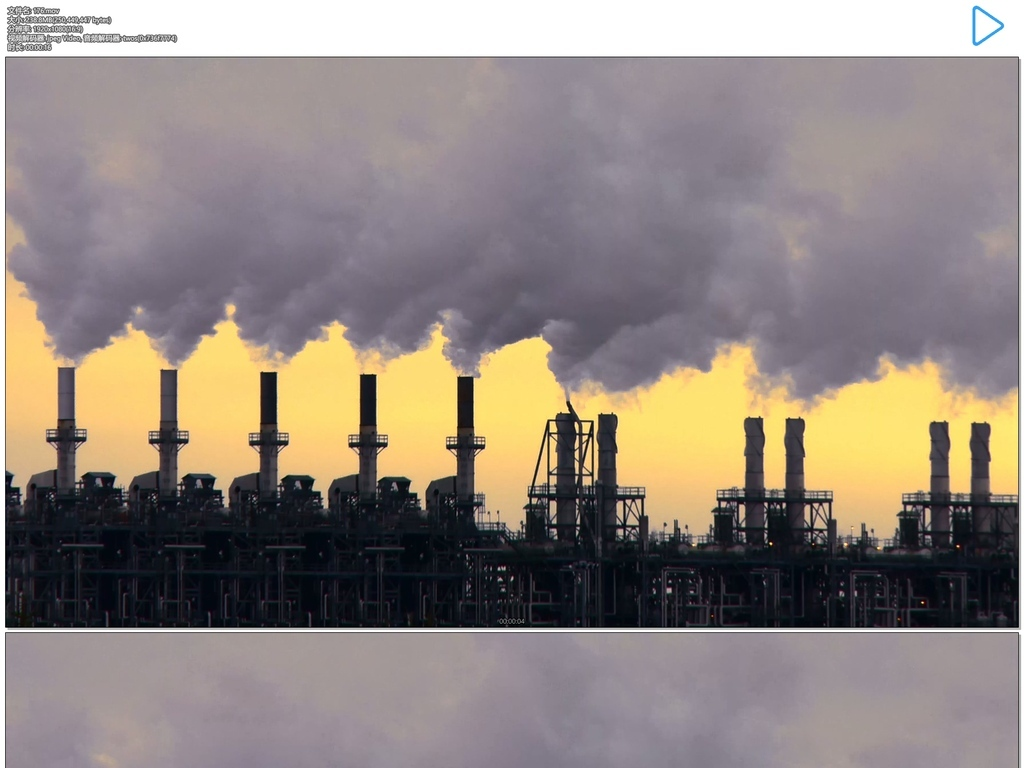dust: (688, 260, 1011, 440), (333, 214, 536, 392), (138, 195, 326, 384), (511, 258, 708, 434), (20, 132, 121, 381)
